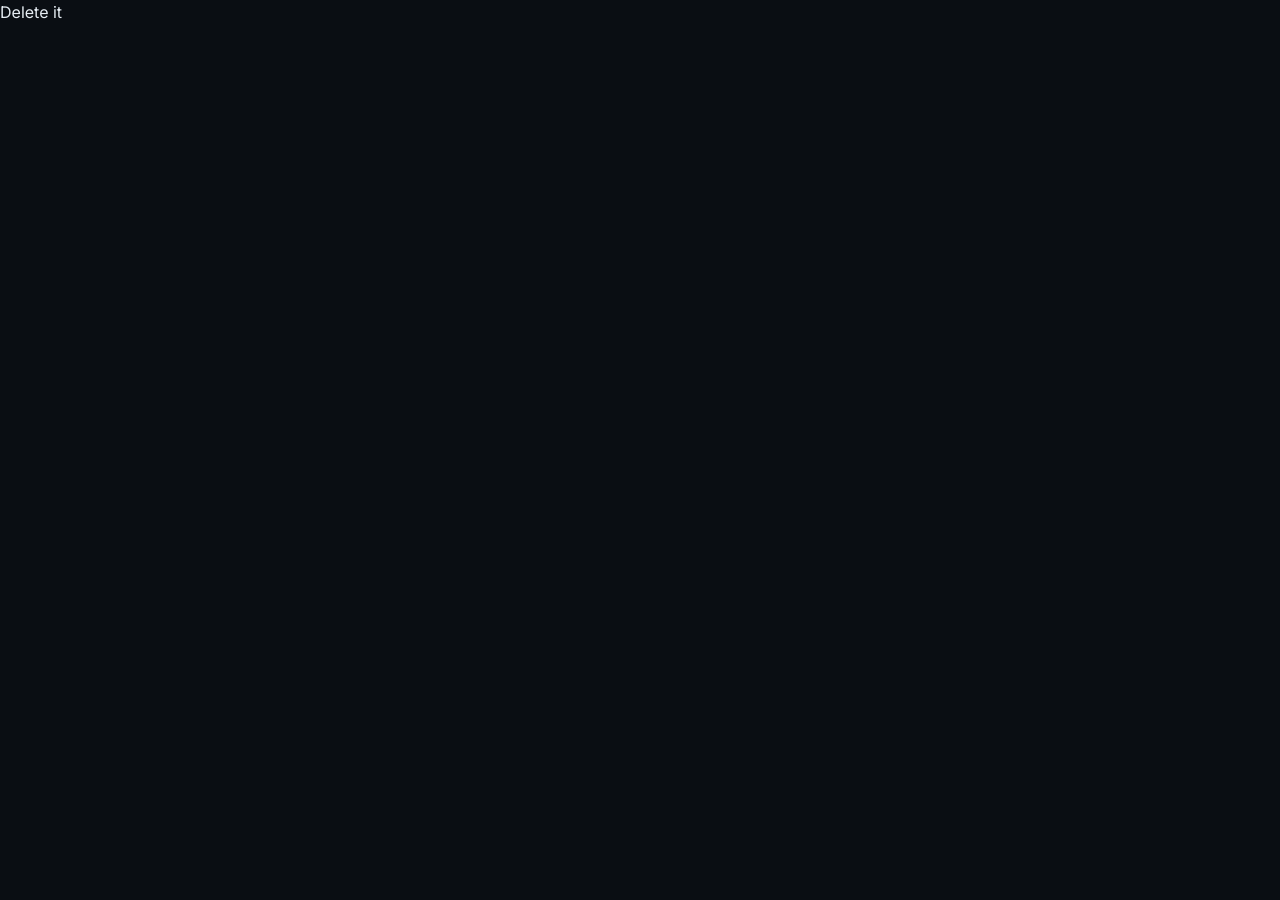
loading and error states › closes a confirmation after success
Step 1. Click the button "Delete it" → x=31, y=12, box [0,0,62,24]
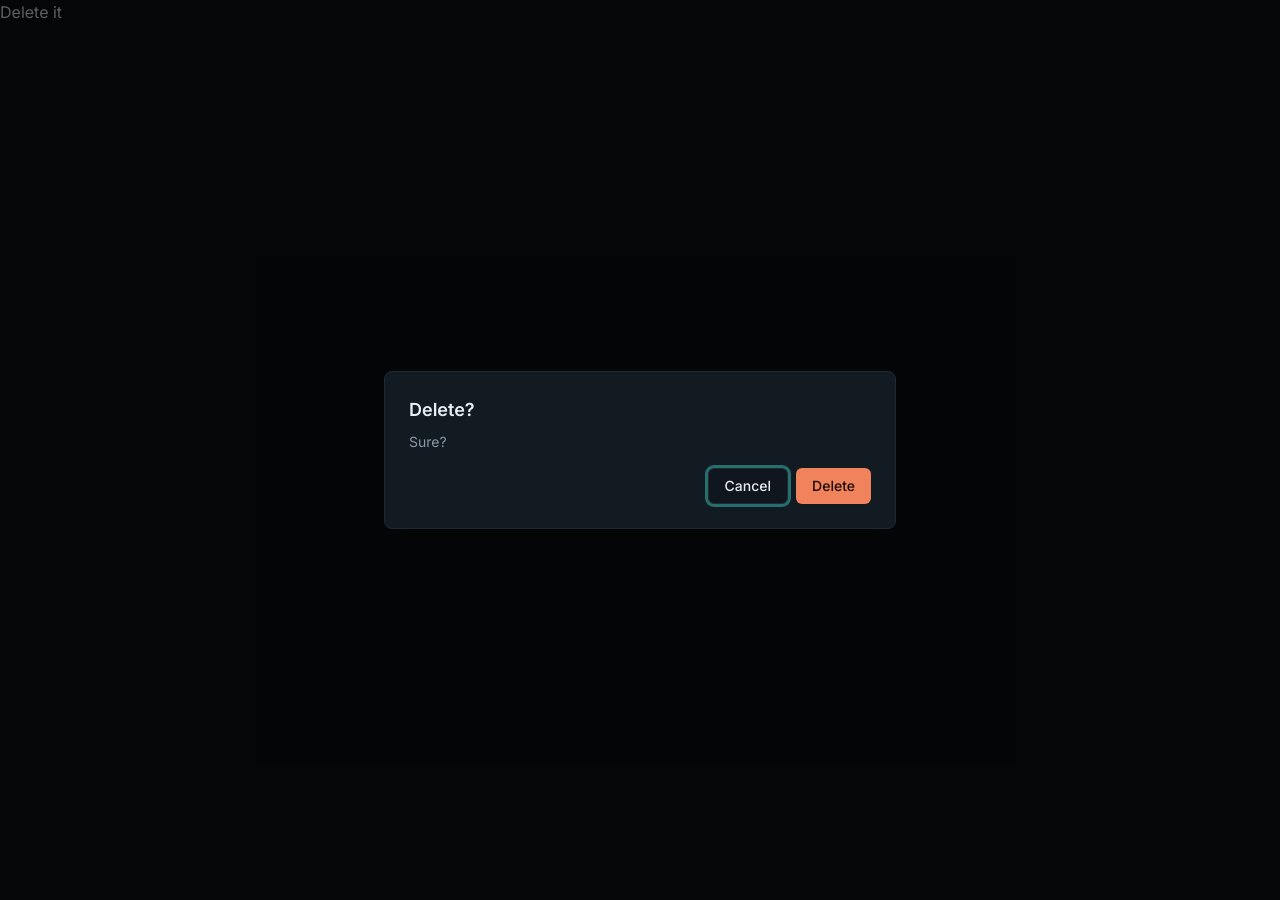
Step 2. Click the button "Delete" → x=834, y=486, box [796,468,871,504]
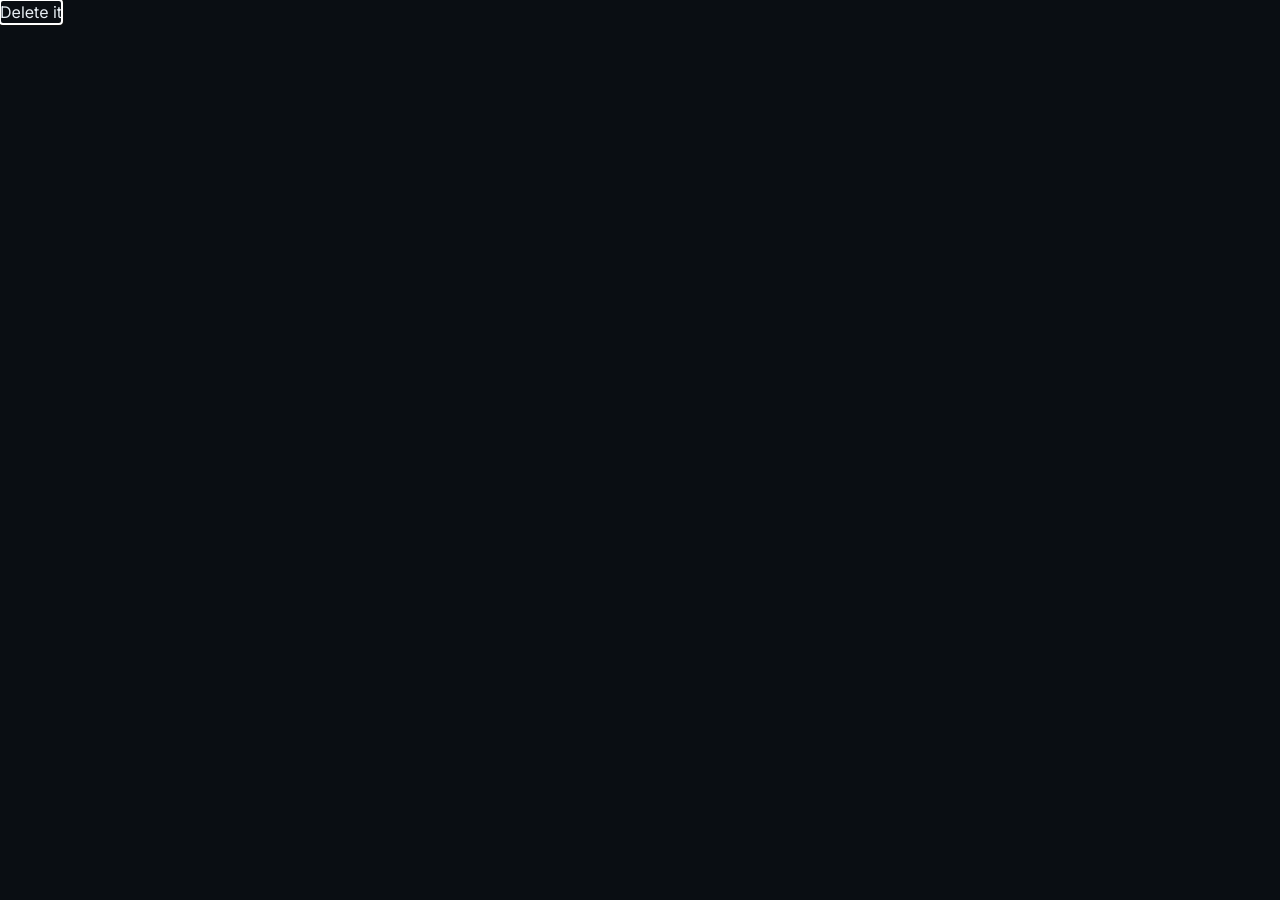
Result: the dialog is gone
